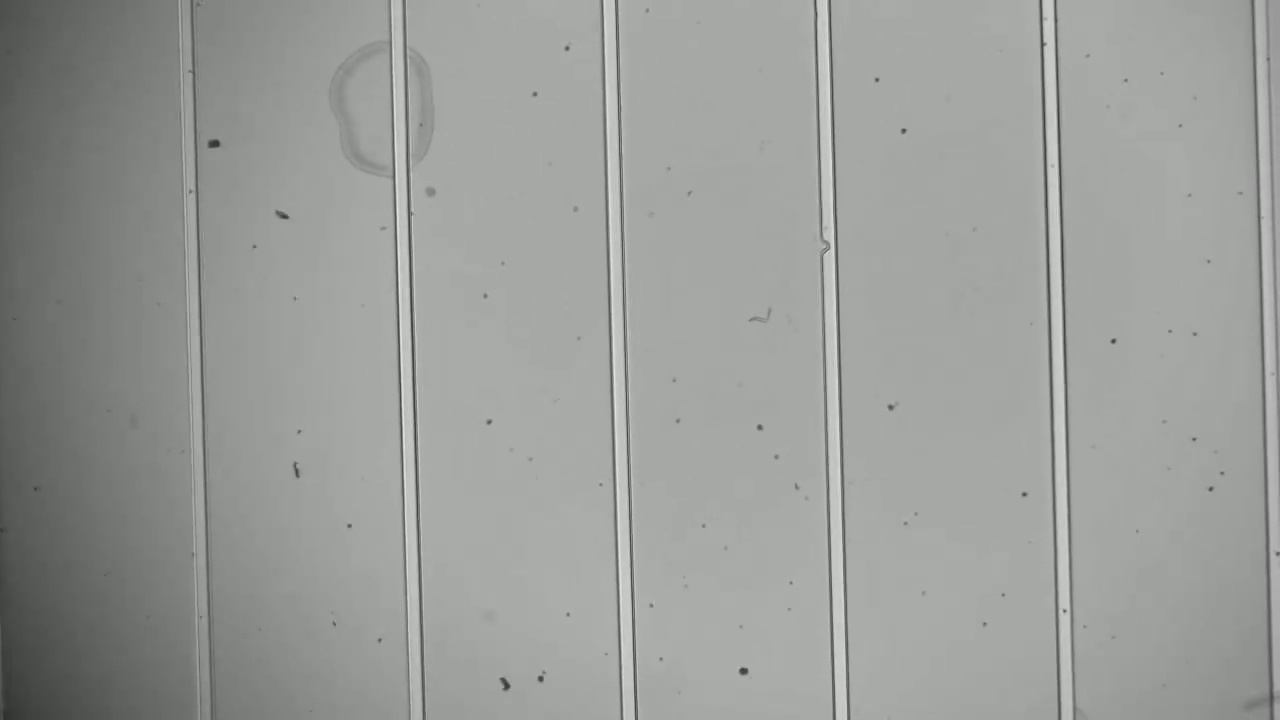edge_bite: (813, 233, 847, 263)
